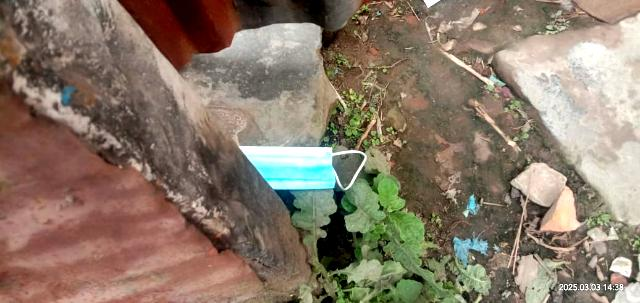mask: (229, 141, 375, 199)
